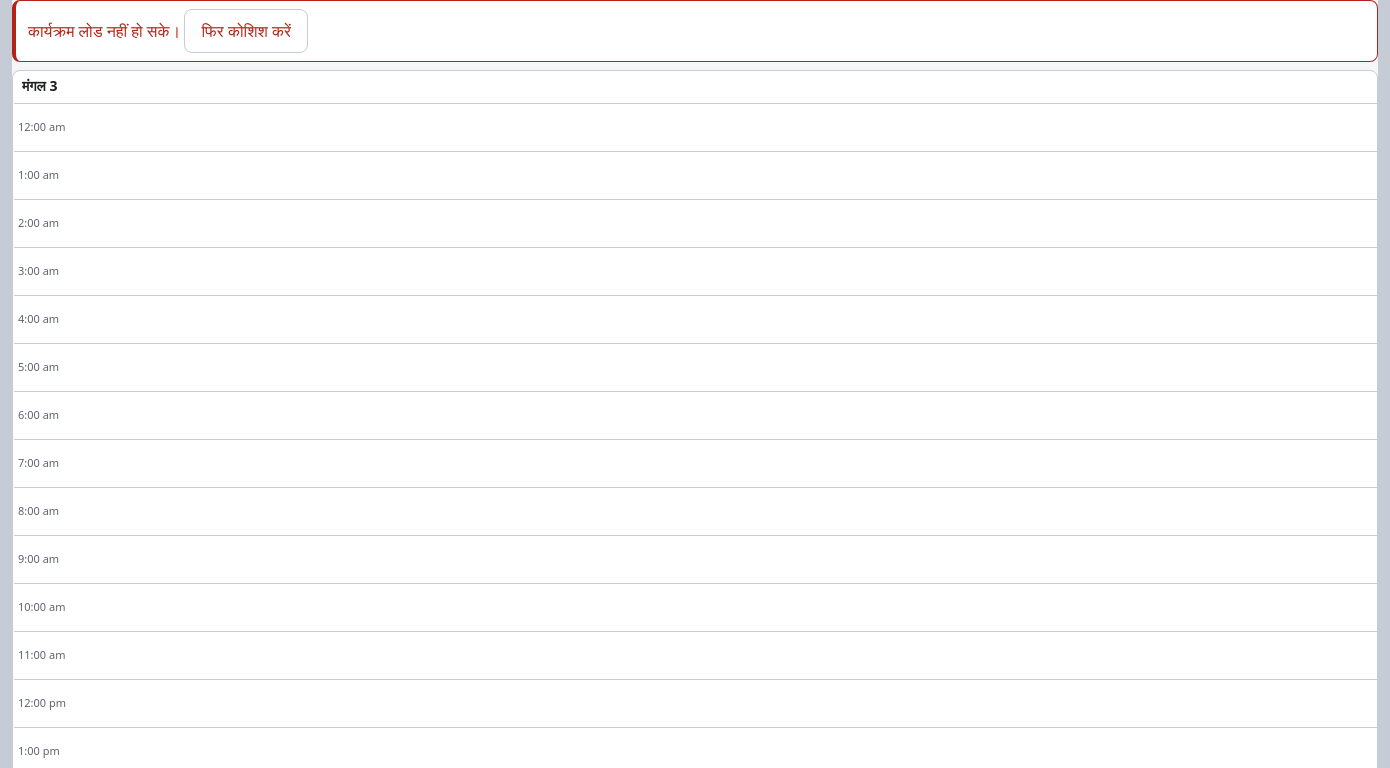
Test: Calendar: messages › shows the loading and failure texts in the language it is given
This screenshot has width=1390, height=768.
Later steps or results of the test are not shown.
Expected: the message shows "कार्यक्रम लोड नहीं हो सके।", [28, 20, 180, 42]
Click the button "फिर कोशिश करें" at coordinates (246, 31), box [184, 9, 308, 53]
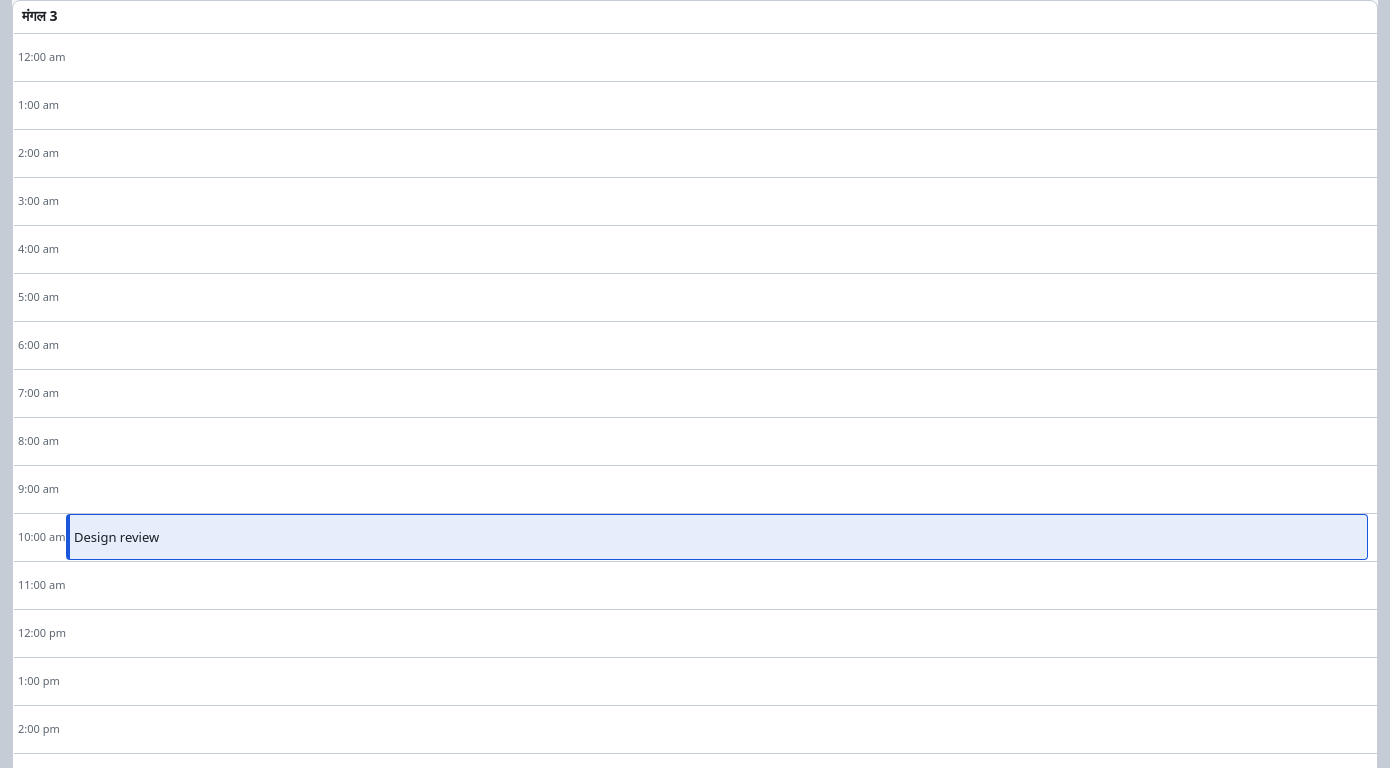
Click the button with aria-label "Design review," at coordinates (117, 537), box [66, 514, 1368, 560]
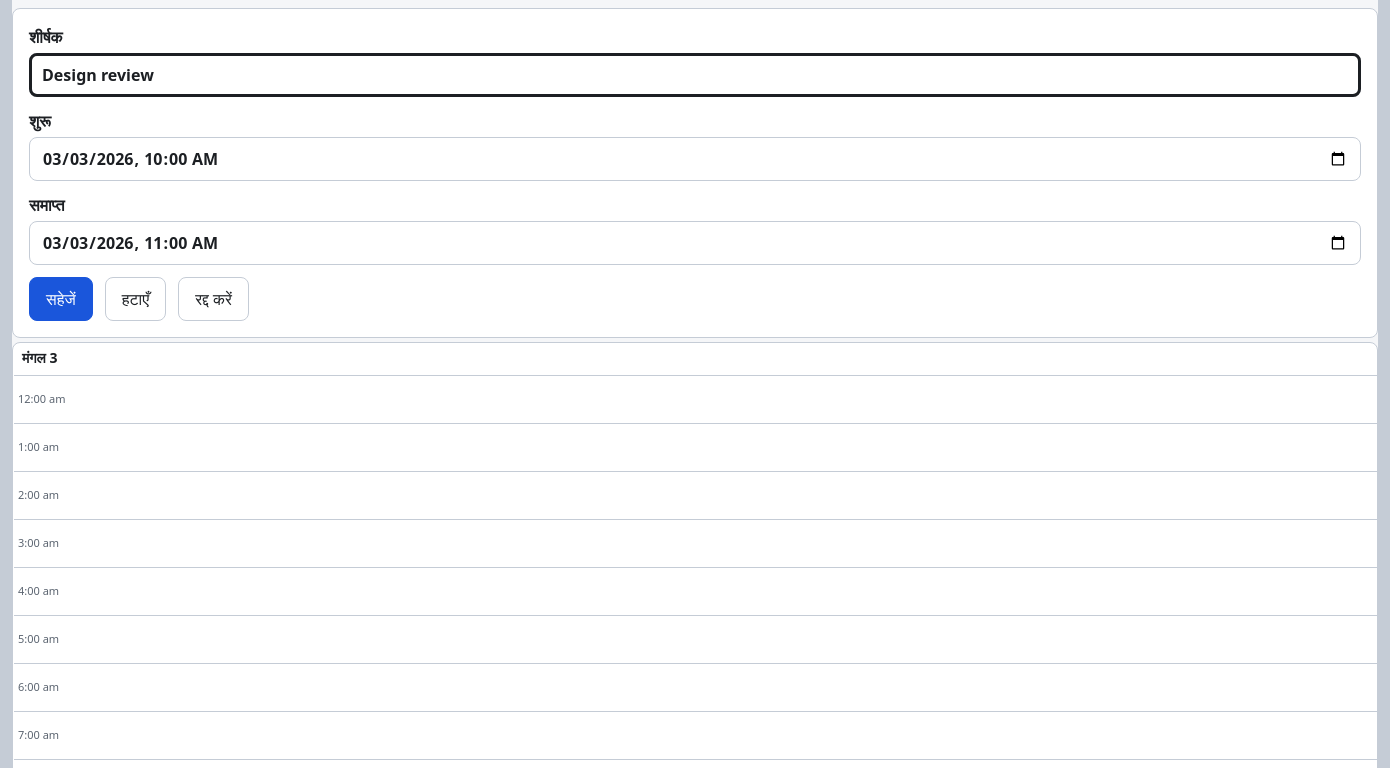
Click the button "हटाएँ" at coordinates (135, 299), box [105, 277, 166, 321]
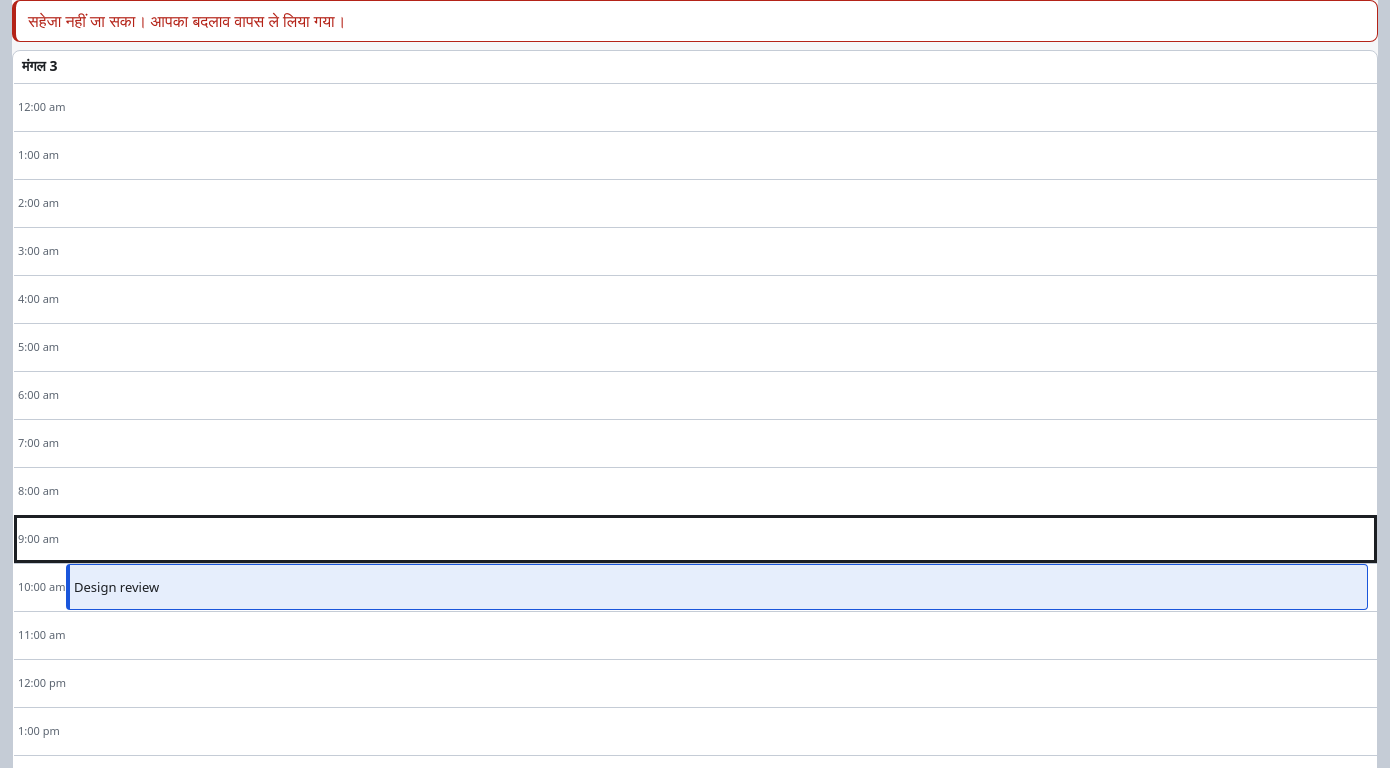
Result: the message shows "सहेजा नहीं जा सका।" at [28, 10, 346, 32]
